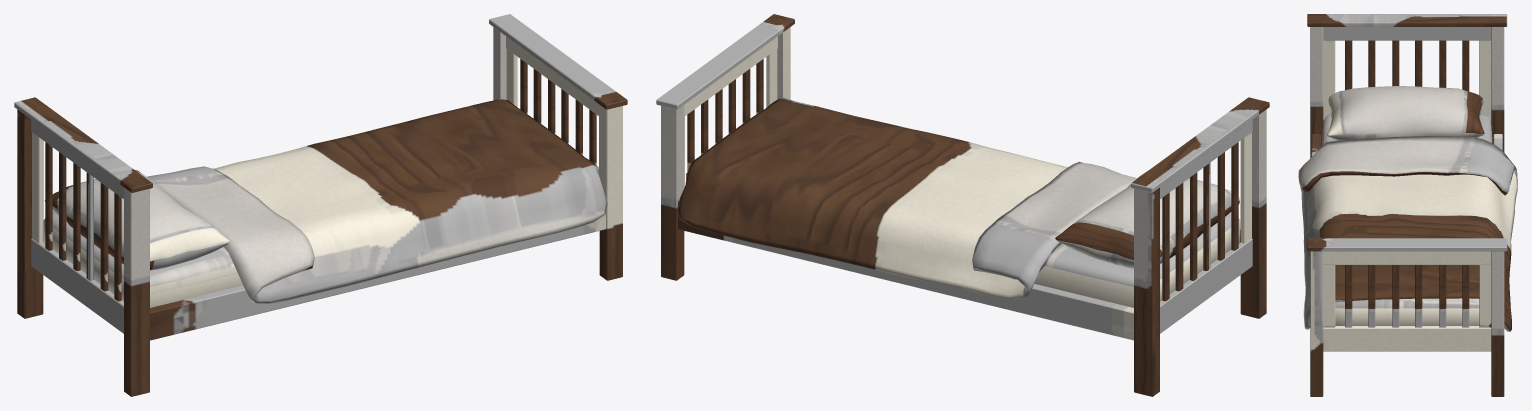
File: bed1.glb
3 renders of one model, left to right at view 1: azimuth 30°, elevation 25°; view 2: azimuth 150°, elevation 25°; view 3: azimuth 270°, elevation 25°, orthographic. The views are drawn at different scales.
Parts seen in each view (by area): view 1: Cube.002; view 2: Cube.002; view 3: Cube.002.
Boxes of the visible parts, <box> form: Cube.002: <box>14,14,627,396</box>; Cube.002: <box>656,14,1269,396</box>; Cube.002: <box>1298,14,1517,396</box>.
Bounding box in the file's own units: 1.88 × 0.7617 × 0.8472.
1 material, 1 textured.
